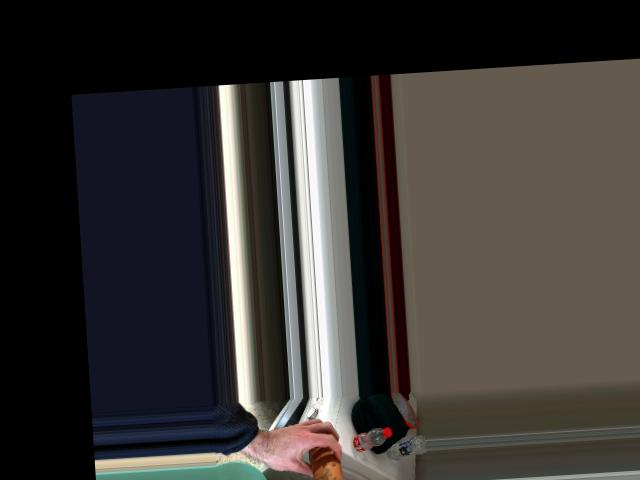sweet_potato: (292, 432, 337, 480)
